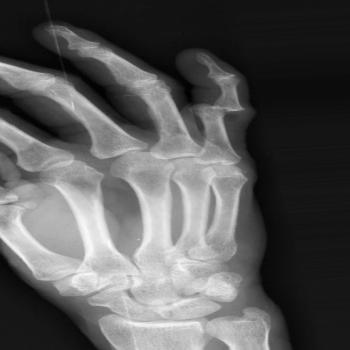Fracture: (198, 99, 252, 119)
